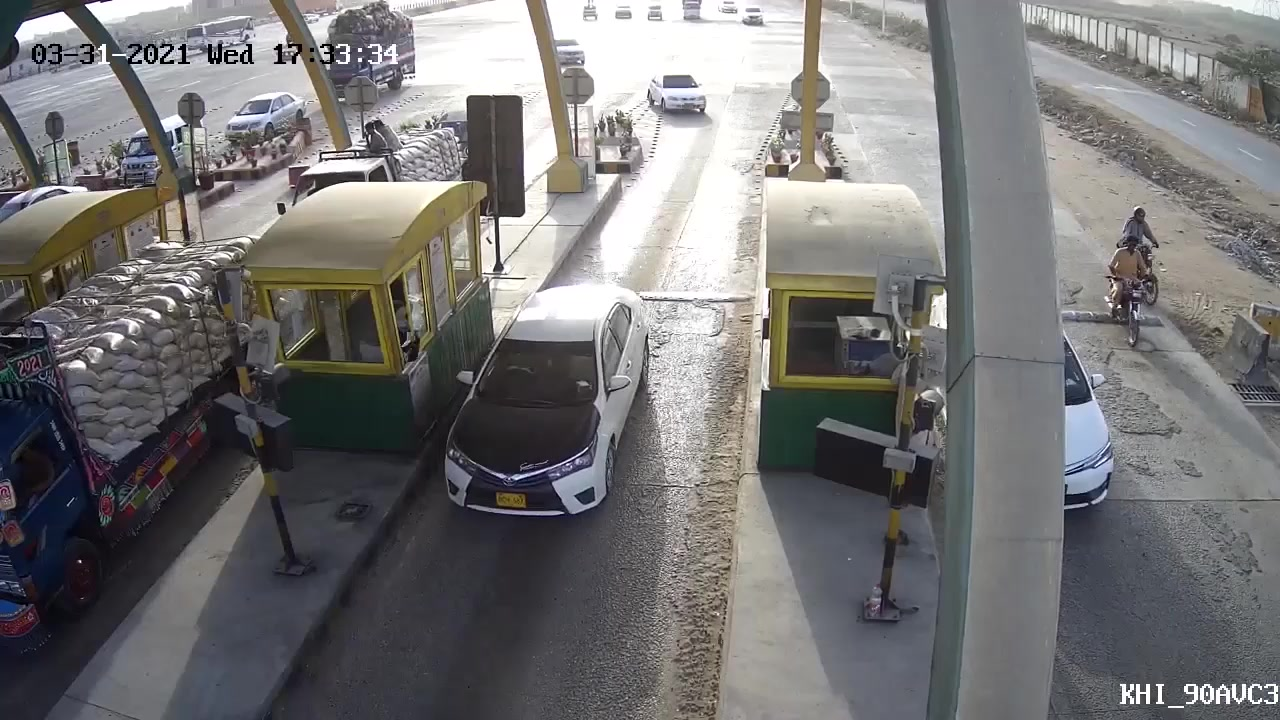F1: (429, 273, 665, 540)
